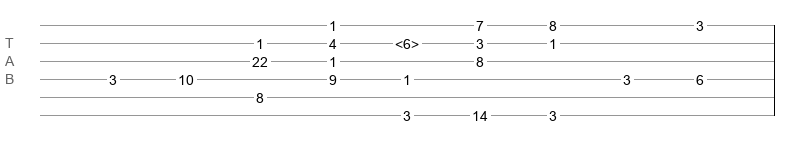1: (256, 36, 264, 46), (329, 54, 337, 64), (329, 18, 337, 28), (403, 72, 411, 82), (549, 36, 557, 46)
10: (178, 72, 194, 82)
14: (472, 108, 488, 118)
22: (252, 54, 268, 64)
3: (109, 72, 117, 82), (403, 108, 411, 118), (476, 36, 484, 46), (549, 108, 557, 118), (623, 72, 631, 82), (696, 18, 704, 28)
4: (329, 36, 337, 46)
6: (696, 72, 704, 82)
7: (476, 18, 484, 28)
8: (256, 90, 264, 100), (476, 54, 484, 64), (549, 18, 557, 28)
9: (329, 72, 337, 82)
harmonic: (395, 36, 419, 46)
